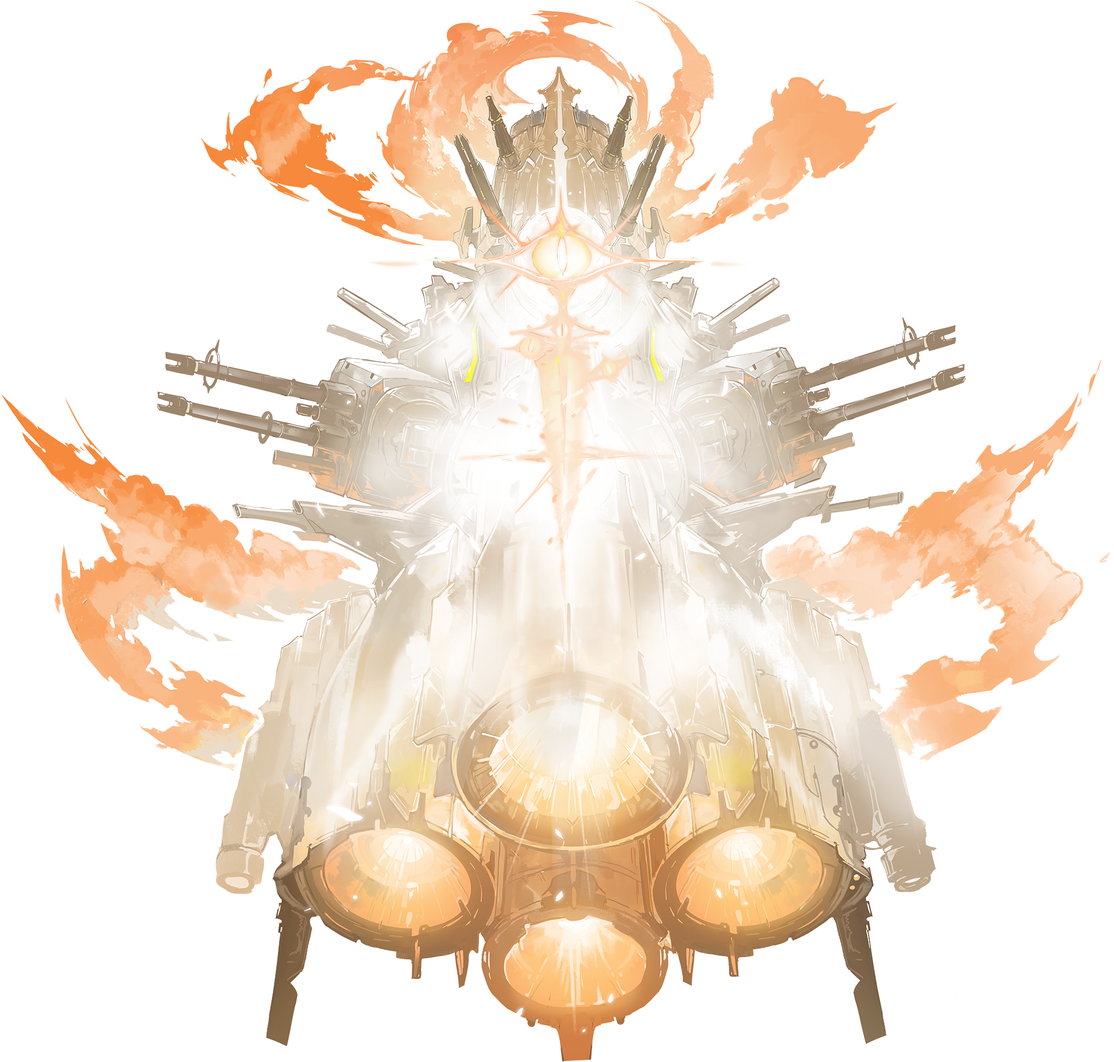person: (0, 0, 1110, 1061)
